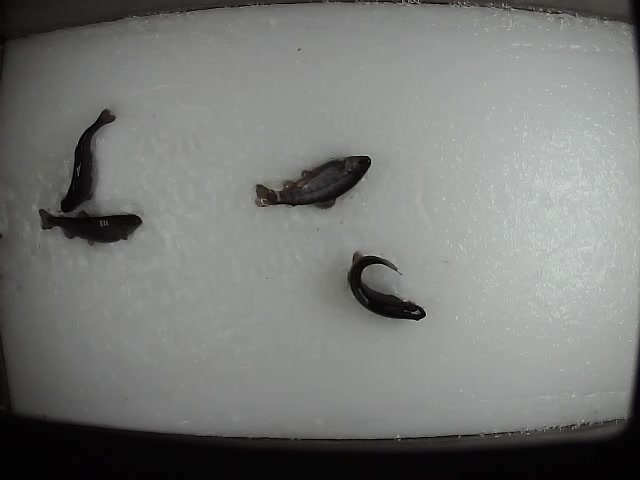fish: (251, 149, 373, 211), (57, 105, 119, 215), (347, 248, 428, 323), (36, 202, 145, 247)
